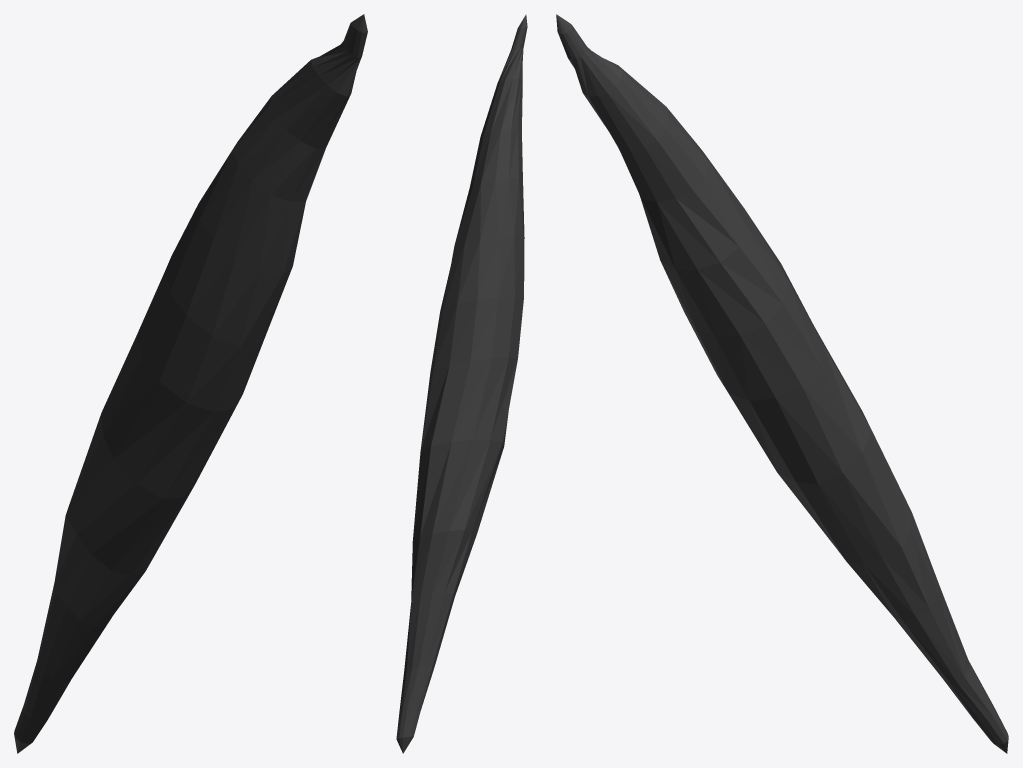
File: LongDigExtensor.glb
3 renders of one model, left to right at view 1: azimuth 30°, elevation 25°; view 2: azimuth 150°, elevation 25°; view 3: azimuth 270°, elevation 25°, orthographic. The views are drawn at different scales.
Parts seen in each view (by area): view 1: LongDigExtensor; view 2: LongDigExtensor; view 3: LongDigExtensor.
Part boxes in pixels (x1,y1,x2,y2): LongDigExtensor: (14,14,367,753); LongDigExtensor: (396,14,527,753); LongDigExtensor: (556,14,1008,753).
Bounding box in the file's own units: 0.6224 × 4.57 × 2.43.
1 material, 1 textured.
